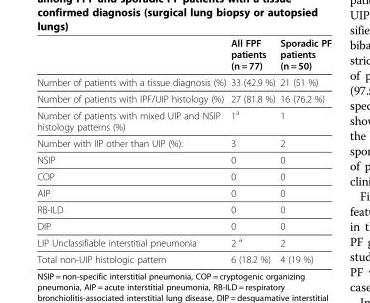table: (36, 36, 331, 264)
table column: (36, 36, 227, 264), (277, 36, 331, 264), (227, 36, 277, 264)
table column header: (36, 36, 331, 73)
table row: (36, 36, 331, 73), (36, 105, 331, 134), (36, 73, 331, 90), (36, 134, 331, 151), (36, 167, 331, 184), (36, 200, 331, 217), (36, 233, 331, 250), (36, 151, 331, 167), (36, 184, 331, 200), (36, 217, 331, 233), (36, 90, 331, 105), (36, 250, 331, 264)
